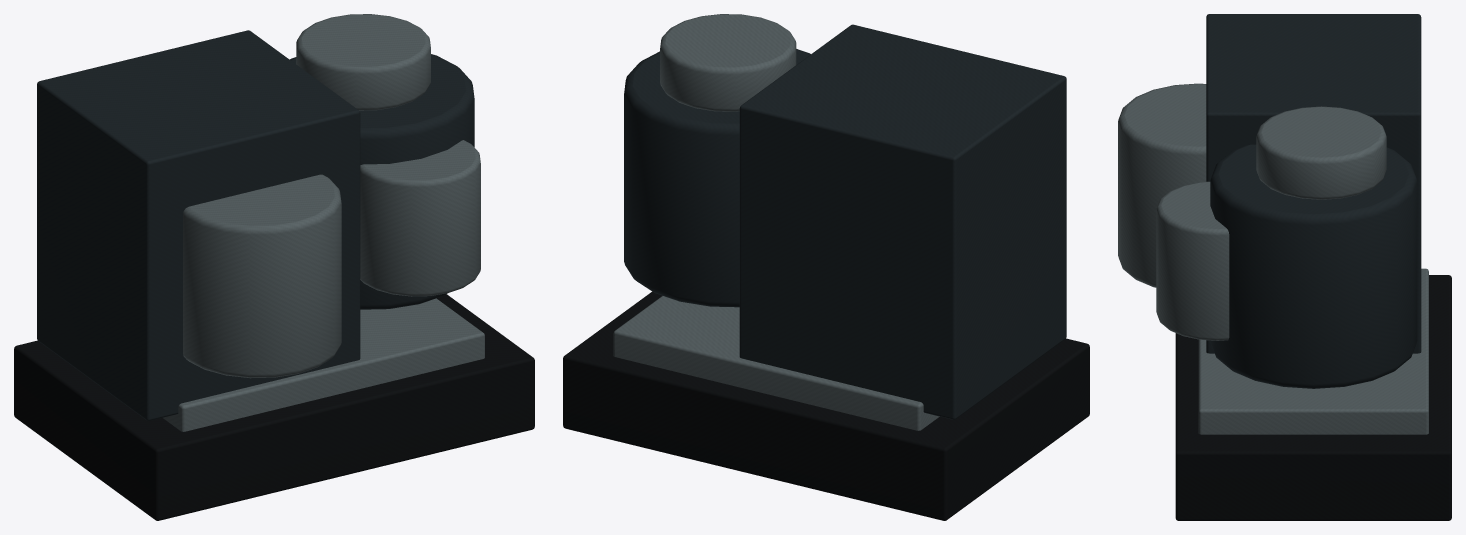
The model's file is IndustrialWaterPump.fbx.
3 renders of one model, left to right at view 1: azimuth 30°, elevation 25°; view 2: azimuth 150°, elevation 25°; view 3: azimuth 270°, elevation 25°, orthographic. The views are drawn at different scales.
Parts seen in each view (by area): view 1: IndustrialWaterPump_Mesh; view 2: IndustrialWaterPump_Mesh; view 3: IndustrialWaterPump_Mesh.
Boxes of the visible parts, x1,y1,x2,y2 form: IndustrialWaterPump_Mesh: [14, 14, 534, 520]; IndustrialWaterPump_Mesh: [563, 14, 1089, 520]; IndustrialWaterPump_Mesh: [1118, 14, 1451, 520].
Size of the model in its own units: 110 by 99 by 87.
